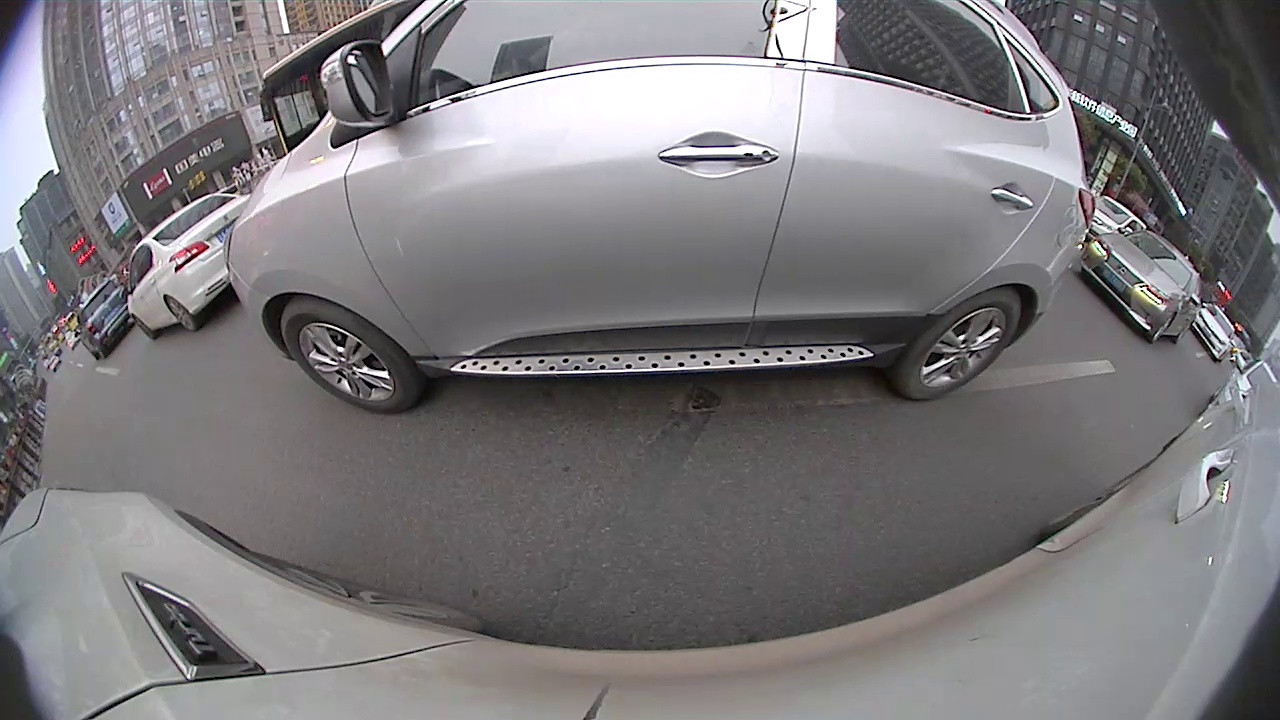car: (221, 3, 1097, 419), (126, 187, 257, 347), (1079, 234, 1208, 347), (79, 274, 137, 360), (1188, 300, 1239, 363)
front: (273, 296, 423, 414)
rear: (894, 286, 1025, 404), (166, 295, 198, 331)
